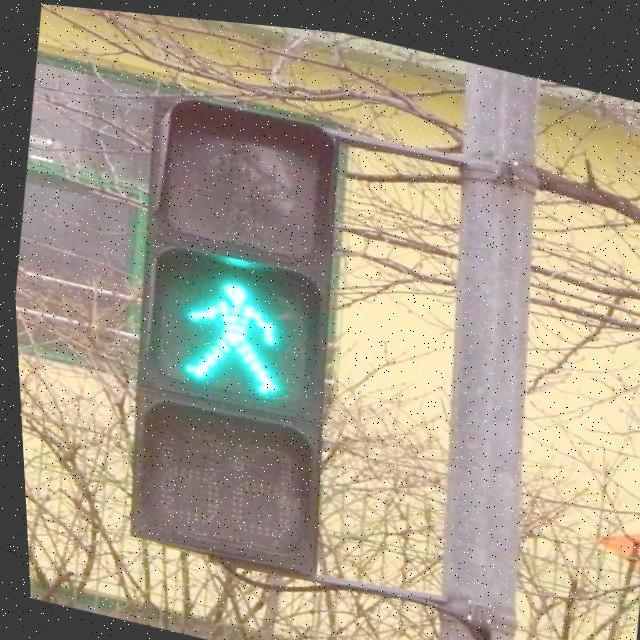green_light: (143, 253, 317, 411)
